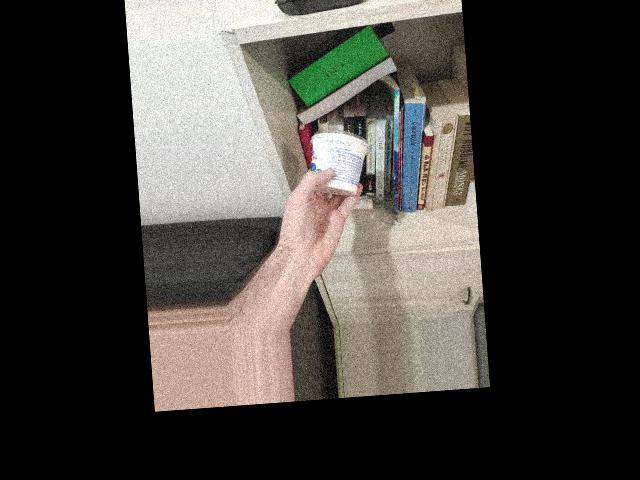cotage: (300, 123, 375, 213)
